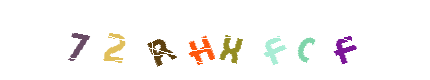2: (100, 0, 180, 80)
7: (39, 0, 119, 80)
C: (238, 0, 318, 80)
F: (179, 0, 259, 80), (303, 0, 383, 80)
H: (161, 0, 241, 80)
R: (120, 0, 200, 80)
X: (175, 0, 255, 80)
